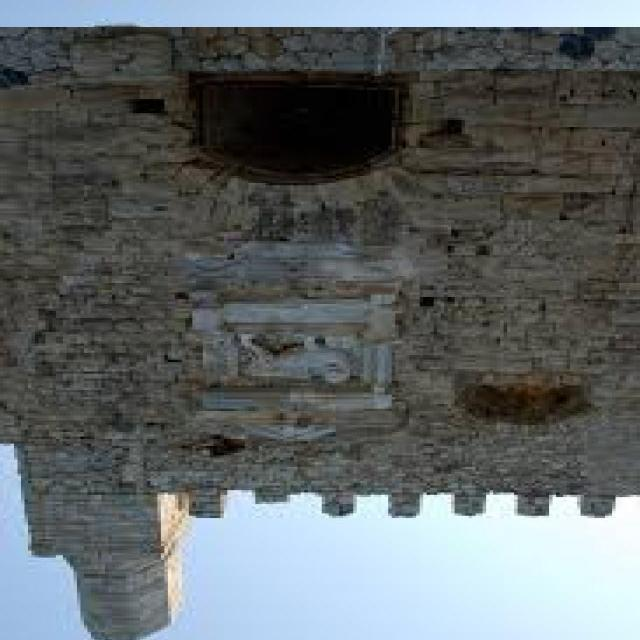Kules: (1, 28, 640, 640)
